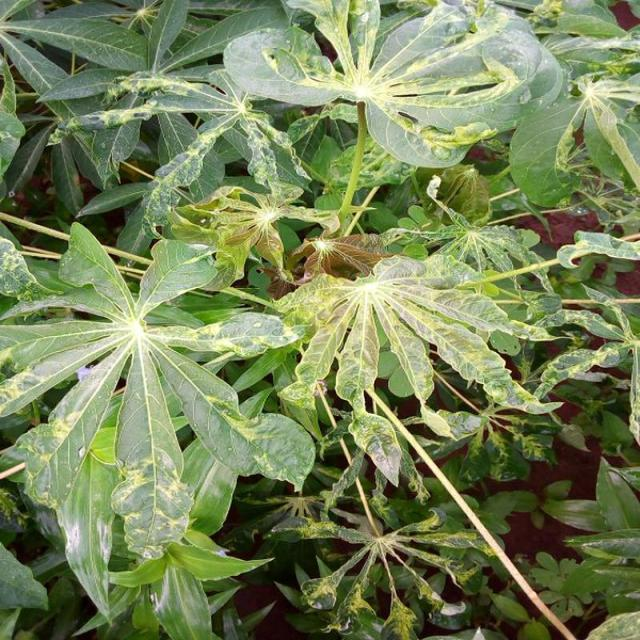cassava leaf: (0, 1, 638, 637), (0, 219, 312, 563), (222, 0, 562, 171)
